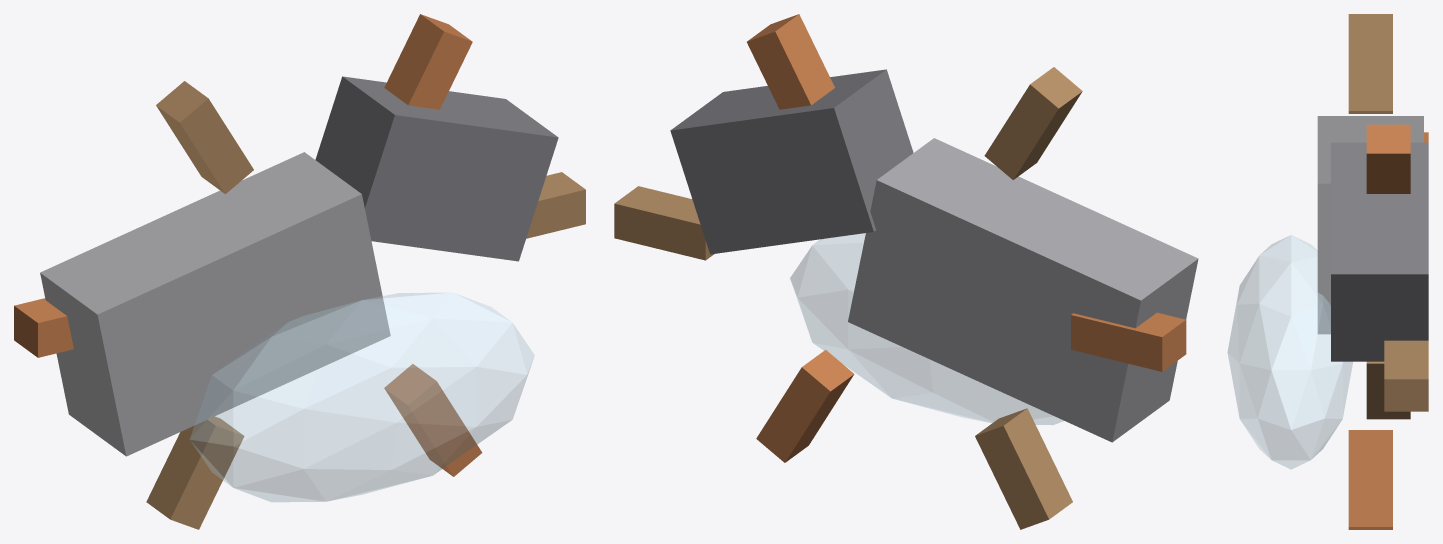
File: boss_armor_shard_pile.glb
3 renders of one model, left to right at view 1: azimuth 30°, elevation 25°; view 2: azimuth 150°, elevation 25°; view 3: azimuth 270°, elevation 25°, orthographic. The views are drawn at different scales.
Visible parts, largest first — view 1: chunk_a, dust_proxy, chunk_b, shard_4, shard_2, shard_5, shard_1, shard_3, shard_0; view 2: chunk_a, chunk_b, dust_proxy, shard_4, shard_5, shard_2, shard_1, shard_3, shard_0; view 3: dust_proxy, chunk_b, chunk_a, shard_2, shard_5, shard_0, shard_1, shard_4.
Boxes of the visible parts, x1,y1,x2,y2 form: chunk_a: [40, 152, 390, 456]; dust_proxy: [190, 293, 534, 501]; chunk_b: [315, 76, 558, 261]; shard_4: [146, 416, 244, 529]; shard_2: [156, 81, 253, 193]; shard_5: [384, 364, 482, 476]; shard_1: [384, 14, 472, 109]; shard_3: [14, 298, 73, 357]; shard_0: [526, 172, 585, 238]; chunk_a: [848, 138, 1198, 442]; chunk_b: [670, 69, 913, 254]; dust_proxy: [790, 233, 1063, 424]; shard_4: [975, 408, 1072, 529]; shard_5: [756, 349, 854, 462]; shard_2: [984, 67, 1082, 179]; shard_1: [747, 14, 834, 109]; shard_3: [1071, 312, 1186, 371]; shard_0: [614, 186, 714, 260]; dust_proxy: [1227, 235, 1352, 469]; chunk_b: [1331, 142, 1428, 361]; chunk_a: [1317, 116, 1423, 334]; shard_2: [1348, 14, 1392, 113]; shard_5: [1348, 430, 1392, 529]; shard_0: [1384, 340, 1428, 411]; shard_1: [1366, 124, 1410, 193]; shard_4: [1366, 361, 1410, 419].
Size of the model in its own units: 1.32 by 1.01 by 0.454.
